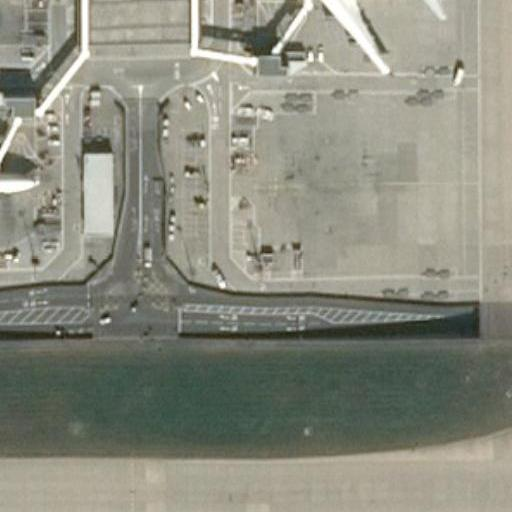Aircraft: (257, 0, 444, 75), (0, 95, 46, 267), (0, 0, 25, 60)
